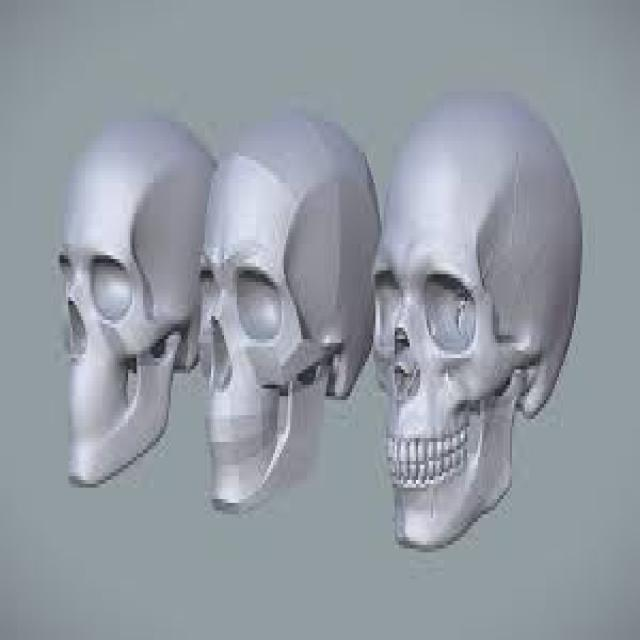skull: (372, 87, 590, 556)
